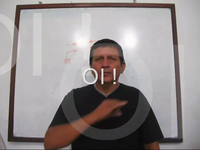oi: (92, 97, 131, 118)
